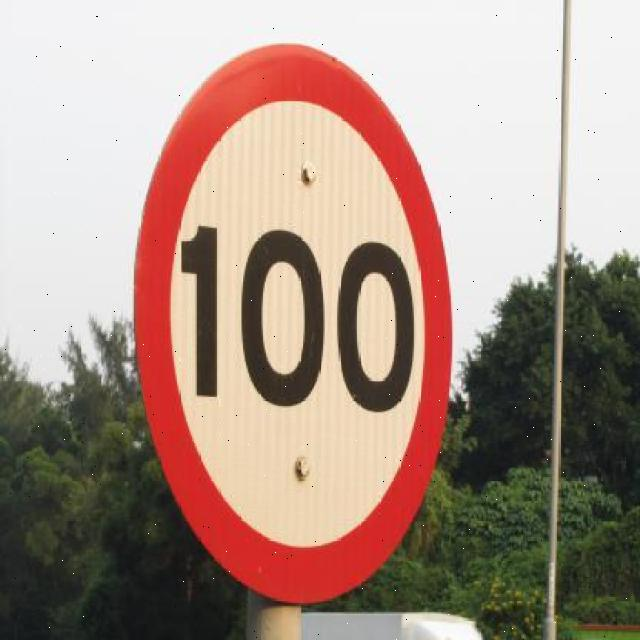speed limit 100: (138, 44, 452, 605)
